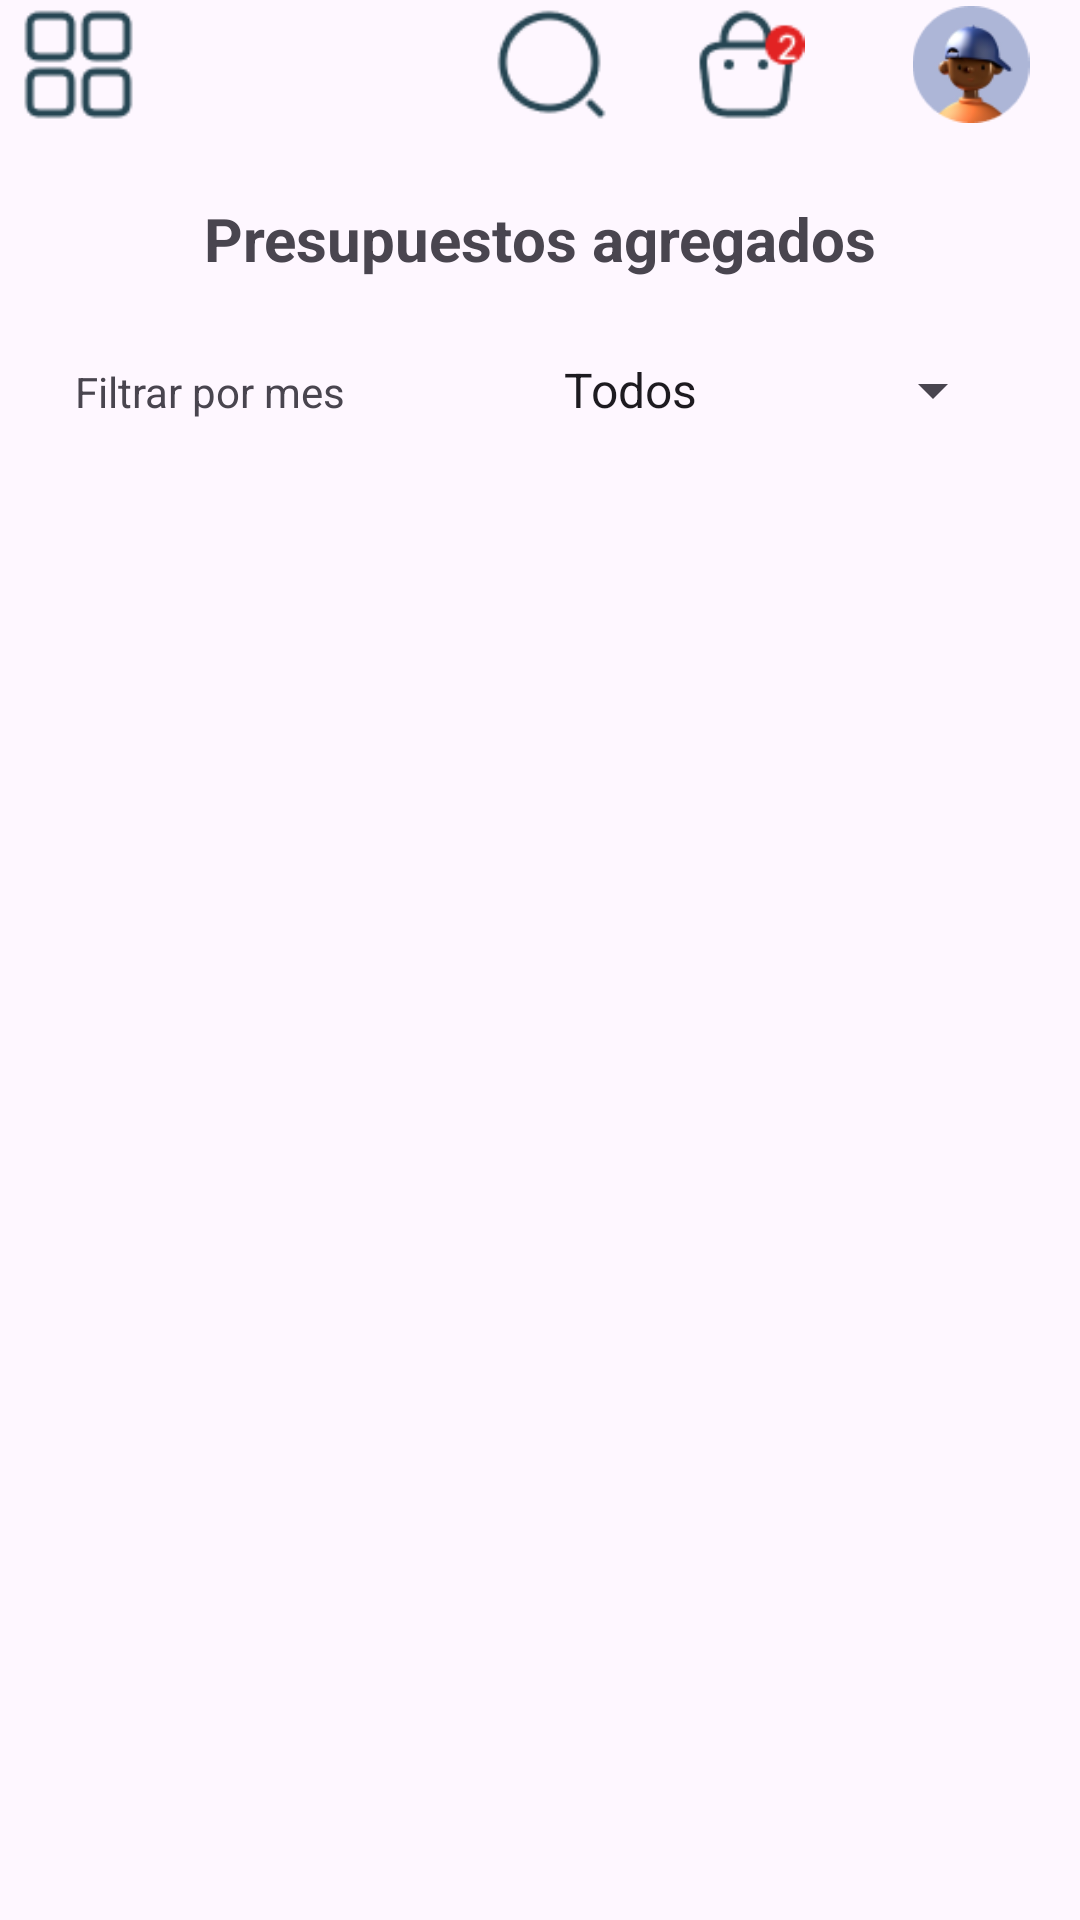

Where icons sit on this 1080px x 1920px app screen, as (x1, y1, x2, y2):
bag: (699, 10, 805, 119)
element: (24, 10, 133, 119)
searchnormal: (497, 10, 606, 119)
